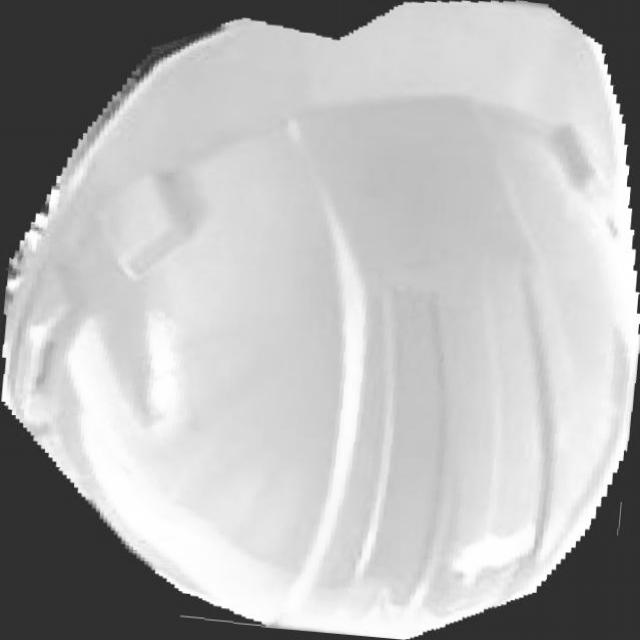construction helmet: (1, 1, 640, 639)
